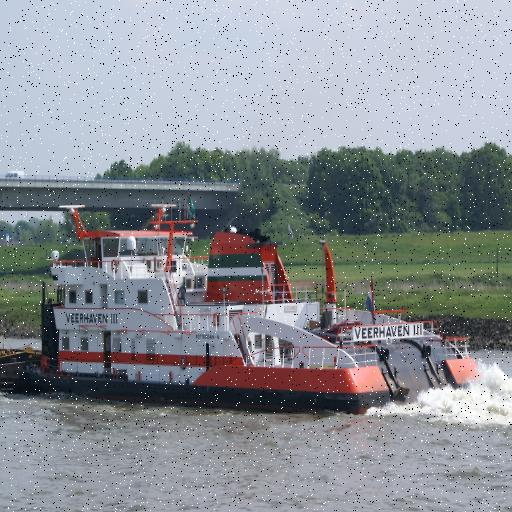tugboat: (33, 192, 491, 425)
